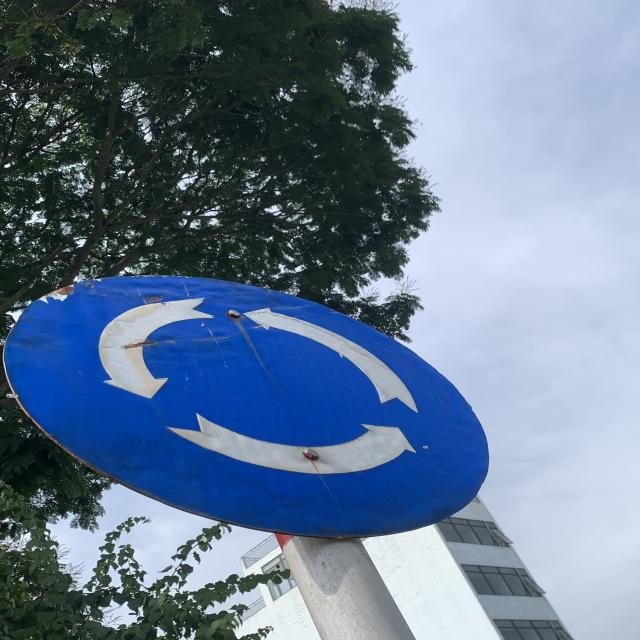Xe_Bus: (2, 273, 492, 539)
